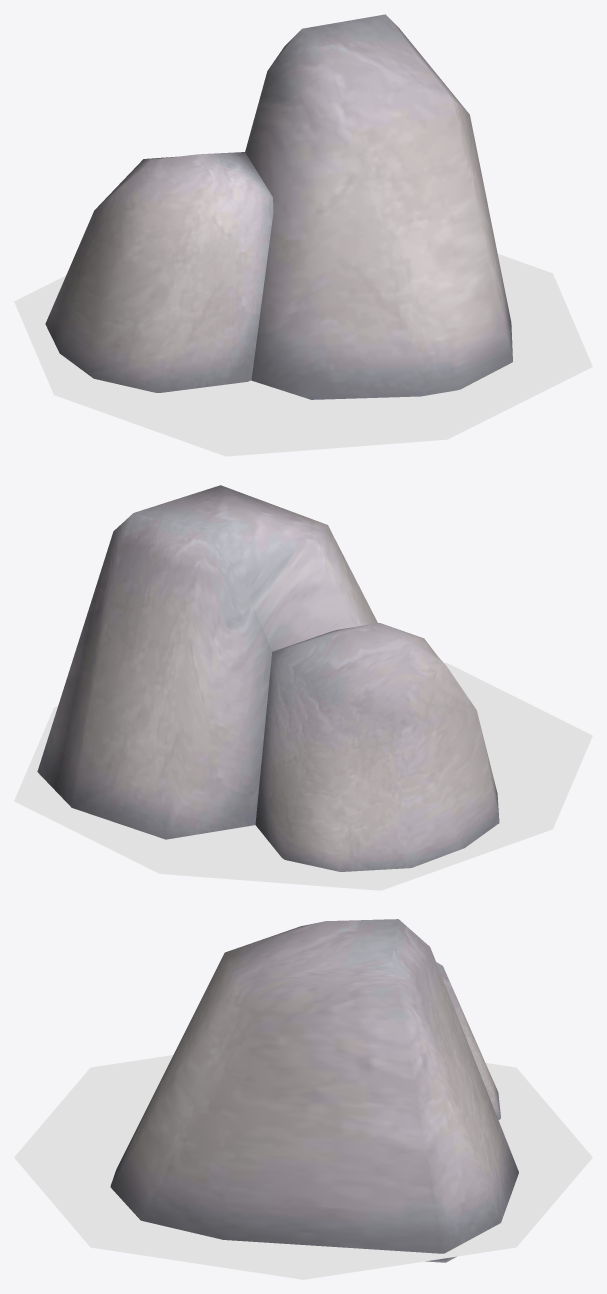
File: fg_stoneC.fbx
The picture shows the model from 3 angles, top to bottom: view 1: azimuth 30°, elevation 25°; view 2: azimuth 150°, elevation 25°; view 3: azimuth 270°, elevation 25°; orthographic projection.
Visible parts, largest first — view 1: fg_stoneC, sdw_circle; view 2: fg_stoneC, sdw_circle; view 3: fg_stoneC, sdw_circle.
Part boxes in pixels (left/top/right/bottom): fg_stoneC: left=45, top=14, right=512, bottom=399; sdw_circle: left=14, top=254, right=592, bottom=456; fg_stoneC: left=37, top=485, right=499, bottom=871; sdw_circle: left=14, top=662, right=592, bottom=890; fg_stoneC: left=110, top=919, right=518, bottom=1262; sdw_circle: left=14, top=1055, right=592, bottom=1279.
Bounding box in the file's own units: 0.135 × 0.0693 × 0.135.
Materials: 2 (2 with a texture image).
